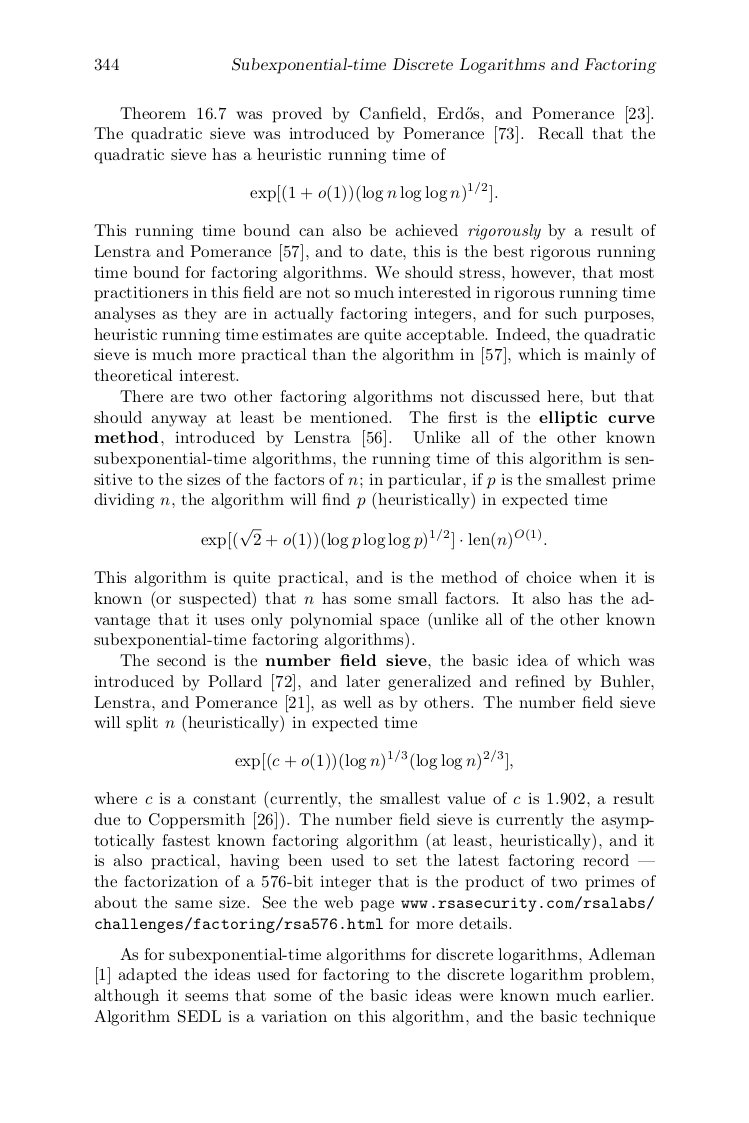formula: (201, 528, 546, 550), (235, 749, 512, 771), (250, 181, 497, 203)
